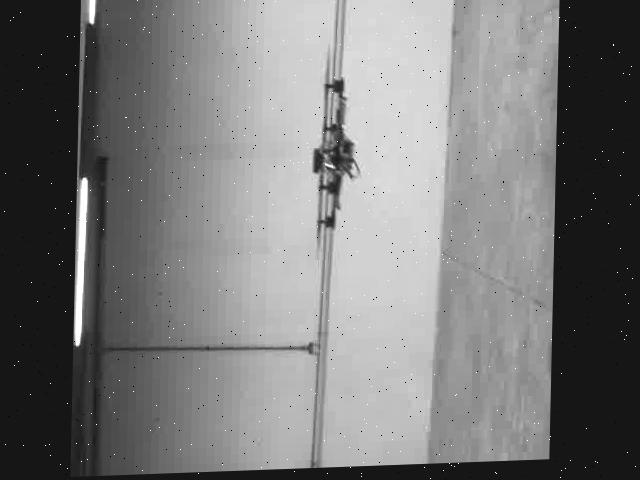drone: (307, 80, 357, 244)
